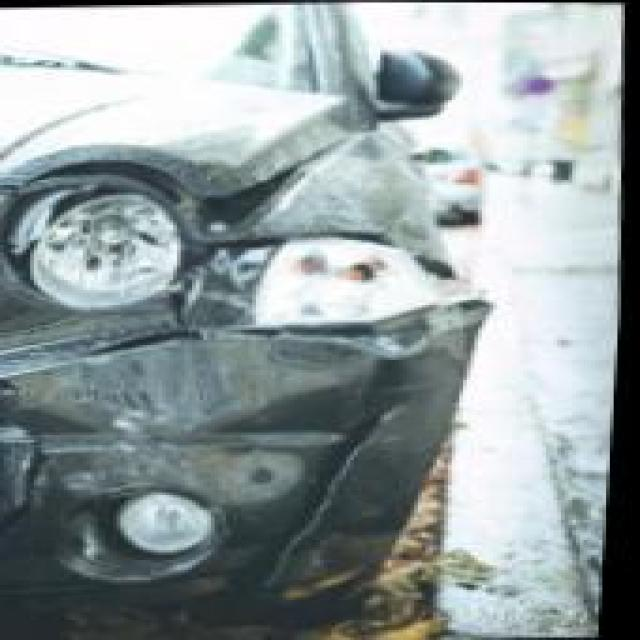Bonnet: (0, 47, 389, 210)
Bumper: (0, 306, 492, 605)
Light: (0, 168, 257, 312), (234, 237, 533, 327)
